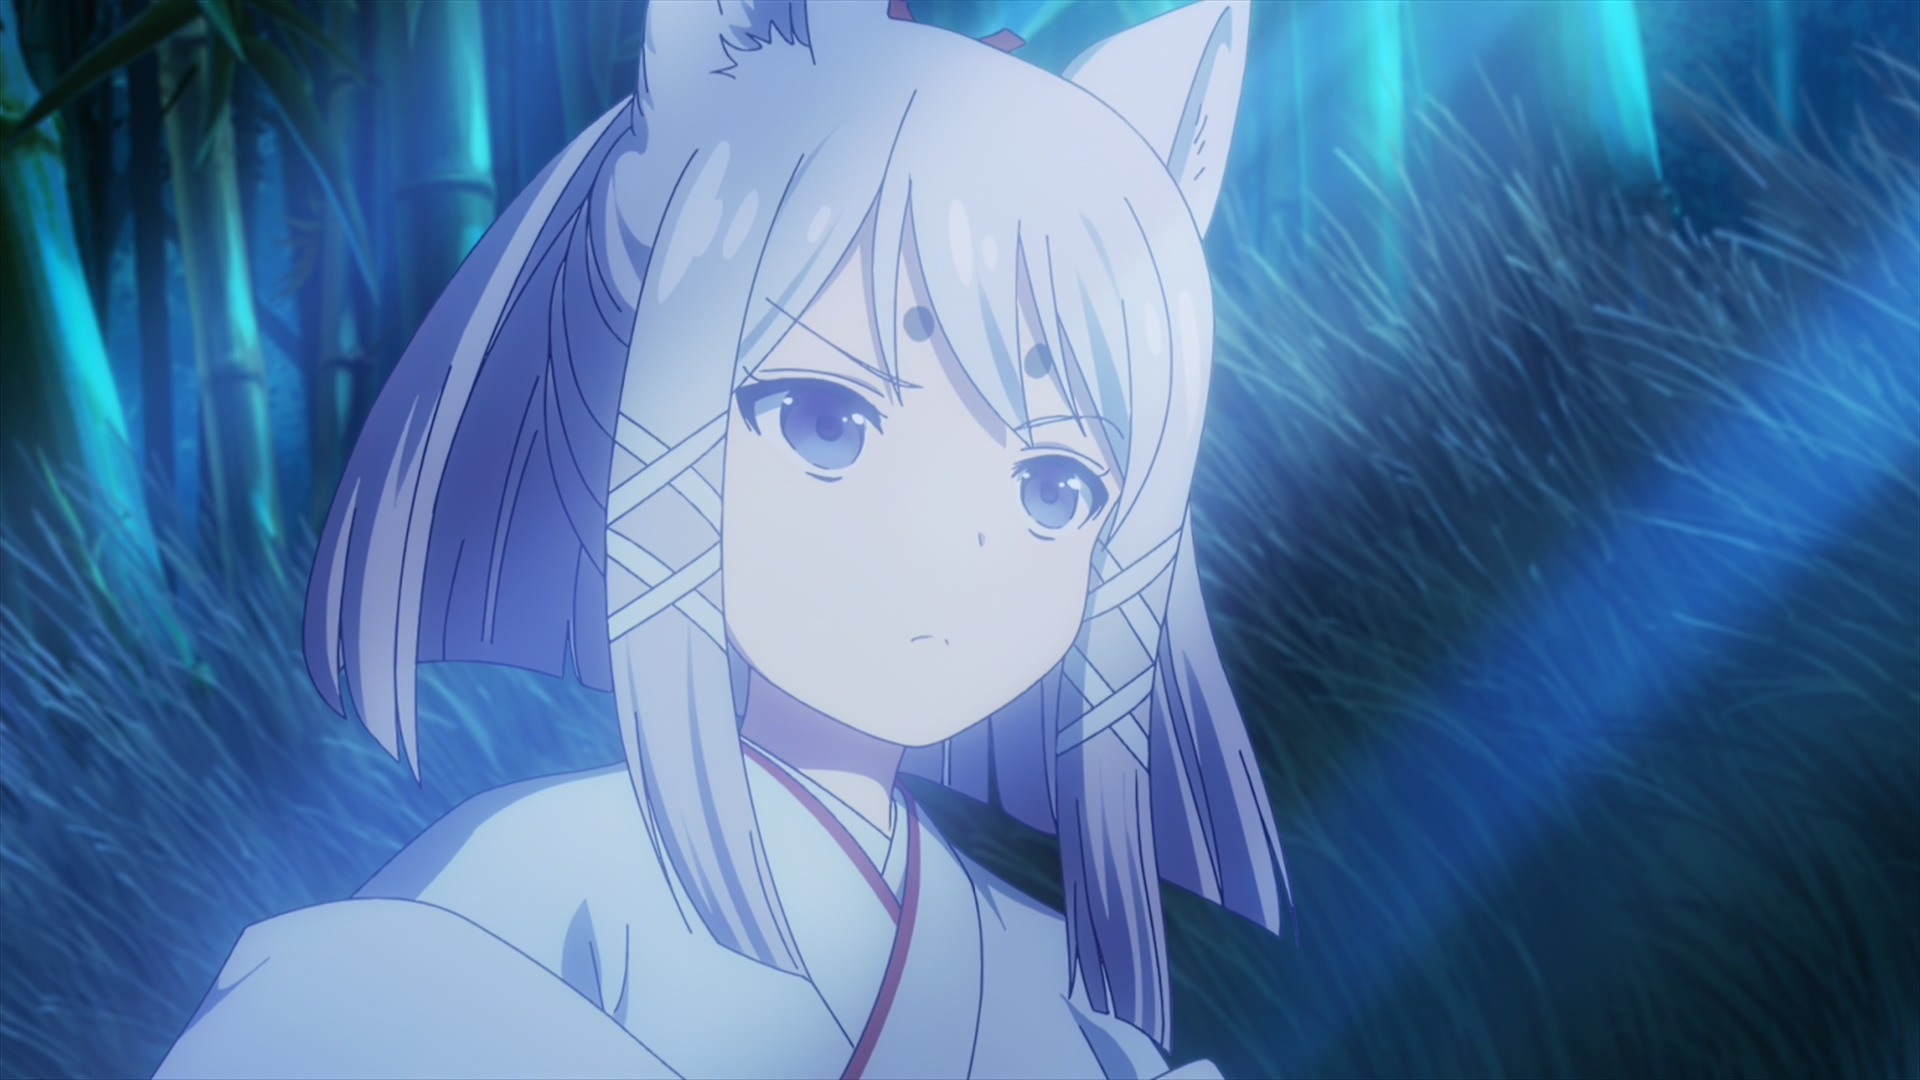柊: (150, 1, 1294, 1080)
